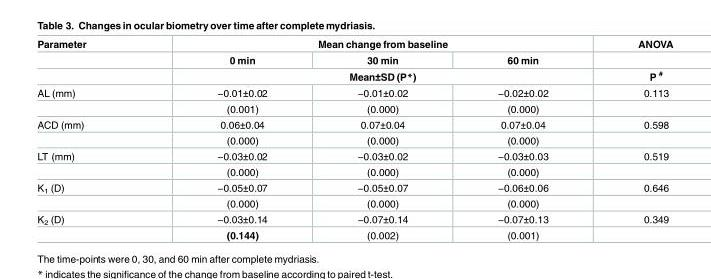table: (36, 37, 672, 240)
table column: (151, 37, 311, 240), (311, 37, 452, 240), (452, 37, 592, 240), (36, 37, 151, 240), (592, 37, 672, 240)
table column header: (36, 37, 672, 84)
table row: (36, 67, 672, 84), (36, 210, 672, 227), (36, 51, 672, 67), (36, 84, 672, 100), (36, 100, 672, 116), (36, 131, 672, 147), (36, 147, 672, 163), (36, 163, 672, 179), (36, 179, 672, 195), (36, 116, 672, 131), (36, 195, 672, 210), (36, 37, 672, 51), (36, 227, 672, 240)
table spanning cell: (151, 67, 592, 84), (151, 37, 592, 51), (36, 37, 151, 84), (592, 37, 672, 84), (36, 84, 151, 116), (36, 147, 151, 179), (36, 116, 151, 147), (36, 179, 151, 210), (36, 210, 151, 240)
